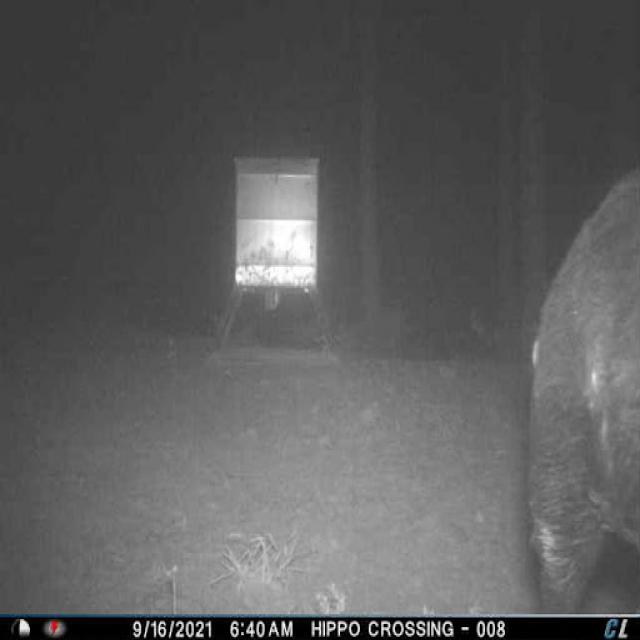wild boar: (521, 164, 639, 579)
